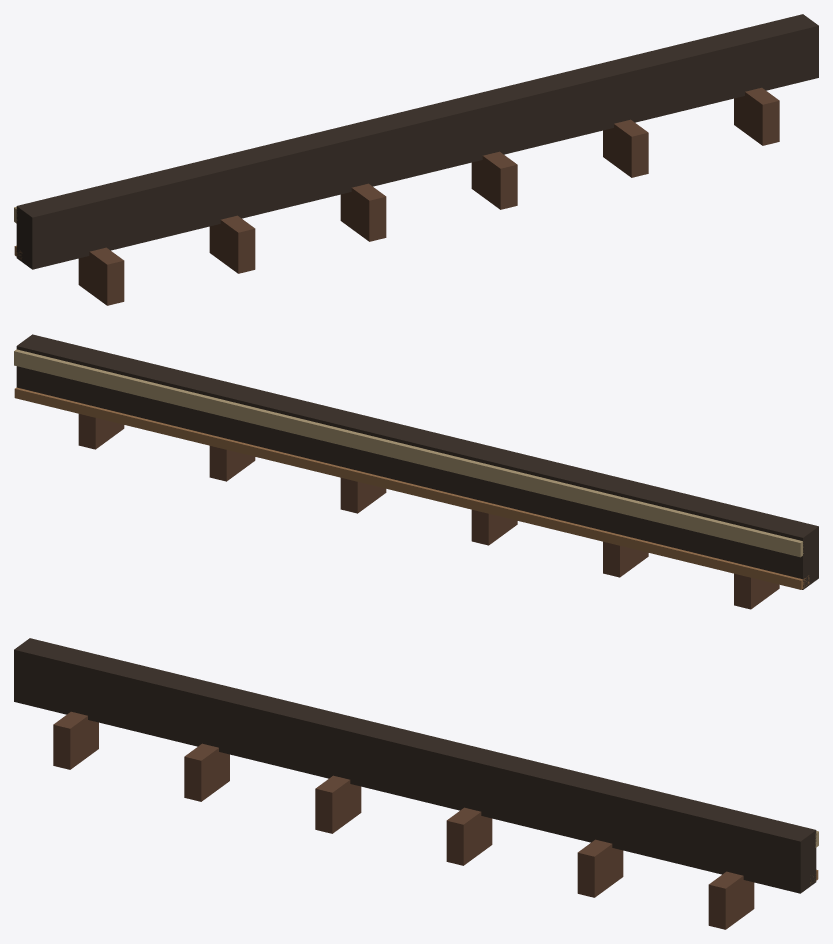
File: Roof_Eave_45.glb
The picture shows the model from 3 angles, top to bottom: view 1: azimuth 30°, elevation 25°; view 2: azimuth 150°, elevation 25°; view 3: azimuth 330°, elevation 25°; orthographic projection.
Parts seen in each view (by area): view 1: _MeshInstance3D_3653, _MeshInstance3D_3656, _MeshInstance3D_3657, _MeshInstance3D_3658, _MeshInstance3D_3659, _MeshInstance3D_3660, _MeshInstance3D_3661; view 2: _MeshInstance3D_3653, _MeshInstance3D_3654, _MeshInstance3D_3655, _MeshInstance3D_3658, _MeshInstance3D_3659, _MeshInstance3D_3660, _MeshInstance3D_3661, _MeshInstance3D_3656, _MeshInstance3D_3657; view 3: _MeshInstance3D_3653, _MeshInstance3D_3661, _MeshInstance3D_3660, _MeshInstance3D_3659, _MeshInstance3D_3658, _MeshInstance3D_3656, _MeshInstance3D_3657.
Part boxes in pixels (x1,y1,x2,y2): _MeshInstance3D_3653: [16, 14, 818, 269]; _MeshInstance3D_3656: [78, 247, 124, 305]; _MeshInstance3D_3657: [209, 215, 255, 273]; _MeshInstance3D_3658: [340, 183, 386, 241]; _MeshInstance3D_3659: [471, 151, 517, 209]; _MeshInstance3D_3660: [603, 119, 648, 177]; _MeshInstance3D_3661: [734, 87, 779, 145]; _MeshInstance3D_3653: [16, 334, 818, 589]; _MeshInstance3D_3654: [14, 349, 803, 557]; _MeshInstance3D_3655: [14, 387, 809, 589]; _MeshInstance3D_3658: [471, 509, 517, 545]; _MeshInstance3D_3659: [340, 478, 386, 513]; _MeshInstance3D_3660: [209, 446, 255, 481]; _MeshInstance3D_3661: [78, 414, 124, 449]; _MeshInstance3D_3656: [734, 573, 779, 609]; _MeshInstance3D_3657: [603, 541, 648, 577]; _MeshInstance3D_3653: [14, 638, 816, 893]; _MeshInstance3D_3661: [708, 871, 754, 929]; _MeshInstance3D_3660: [577, 839, 623, 897]; _MeshInstance3D_3659: [446, 807, 492, 865]; _MeshInstance3D_3658: [315, 775, 361, 833]; _MeshInstance3D_3656: [53, 711, 98, 769]; _MeshInstance3D_3657: [184, 743, 229, 801].
Size of the model in its own units: 3 by 0.325 by 0.2395.
